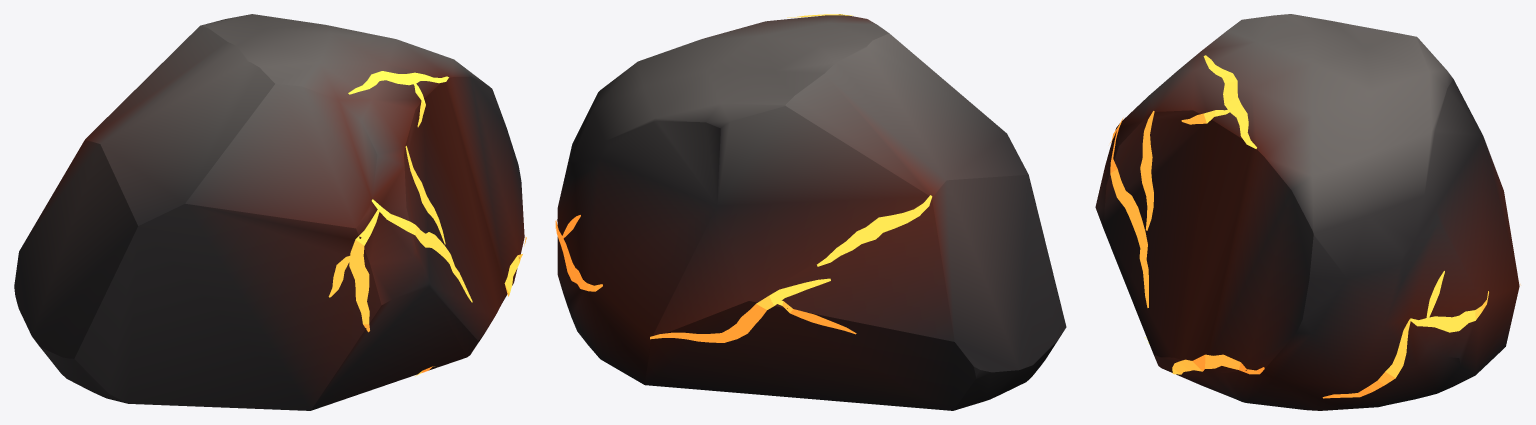
File: lava_rock_a.glb
3 renders of one model, left to right at view 1: azimuth 30°, elevation 25°; view 2: azimuth 150°, elevation 25°; view 3: azimuth 270°, elevation 25°, orthographic. The views are drawn at different scales.
Visible parts, largest first — view 1: lava_rock_a; view 2: lava_rock_a; view 3: lava_rock_a.
Boxes of the visible parts, <box> form: lava_rock_a: <box>14,14,526,410</box>; lava_rock_a: <box>555,14,1066,410</box>; lava_rock_a: <box>1095,14,1520,410</box>.
Size of the model in its own units: 1.49 by 0.8659 by 1.2.
